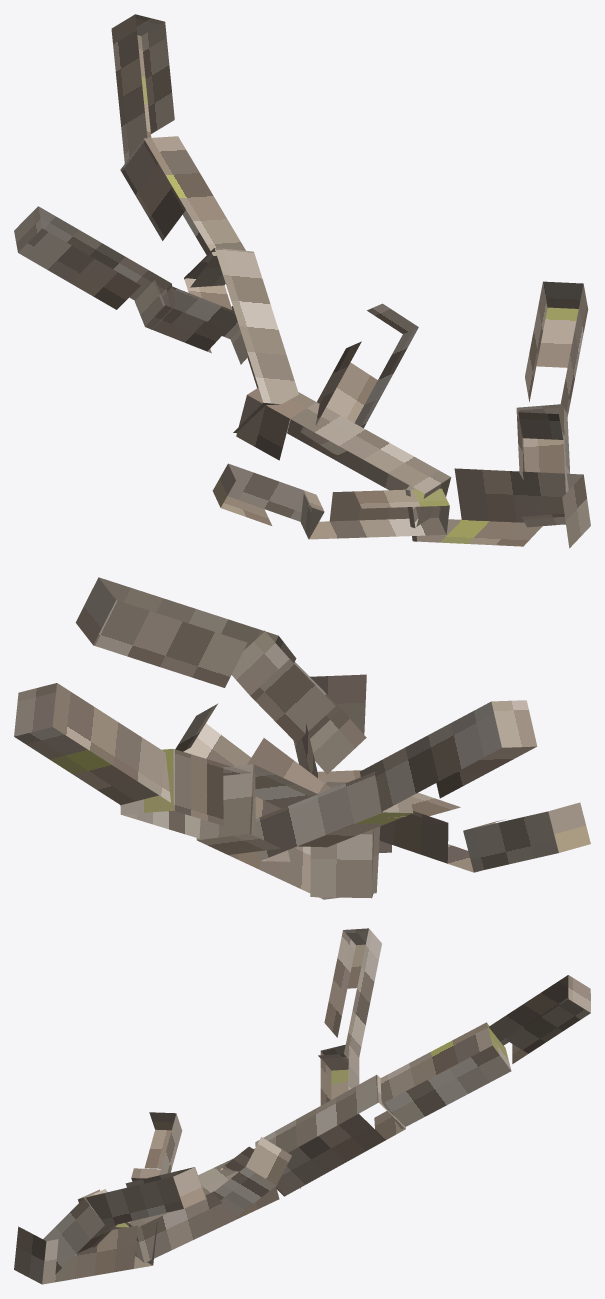
The model's file is ash_twig_branch_up_2.obj.
3 renders of one model, top to bottom at view 1: azimuth 30°, elevation 25°; view 2: azimuth 150°, elevation 25°; view 3: azimuth 270°, elevation 25°, orthographic. The views are drawn at different scales.
Visible parts, largest first — view 1: cube; view 2: cube; view 3: cube.
Boxes of the visible parts, box(x1,y1,x2,y2) form: cube: box(14, 14, 590, 548); cube: box(14, 577, 590, 899); cube: box(14, 928, 590, 1284).
Size of the model in its own units: 2.22 by 1.51 by 2.9.
